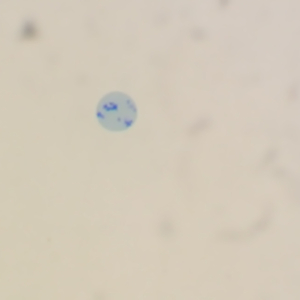aggregate reticulocyte: (94, 90, 139, 134)
